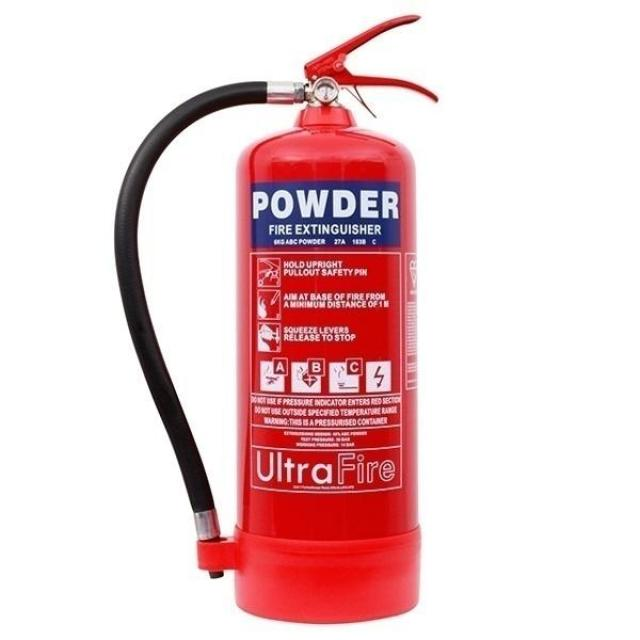fire_extinguisher: (111, 10, 443, 629)
